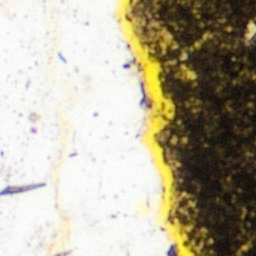cement_matrix: (134, 0, 255, 255), (161, 33, 169, 43), (185, 71, 190, 75)
cracks: (120, 0, 196, 255)
gravel_crushed_stones: (0, 0, 172, 255), (248, 25, 255, 36), (162, 34, 168, 42), (186, 72, 189, 74)
